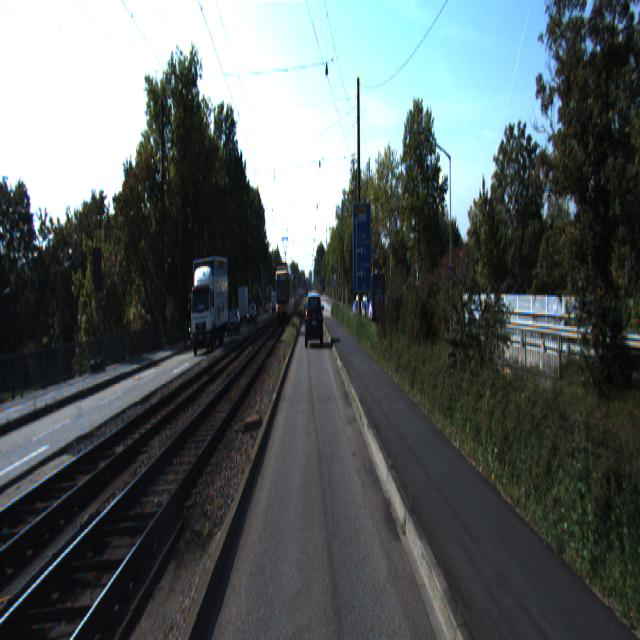Car: (188, 252, 229, 356), (352, 270, 386, 324), (306, 294, 322, 348)
